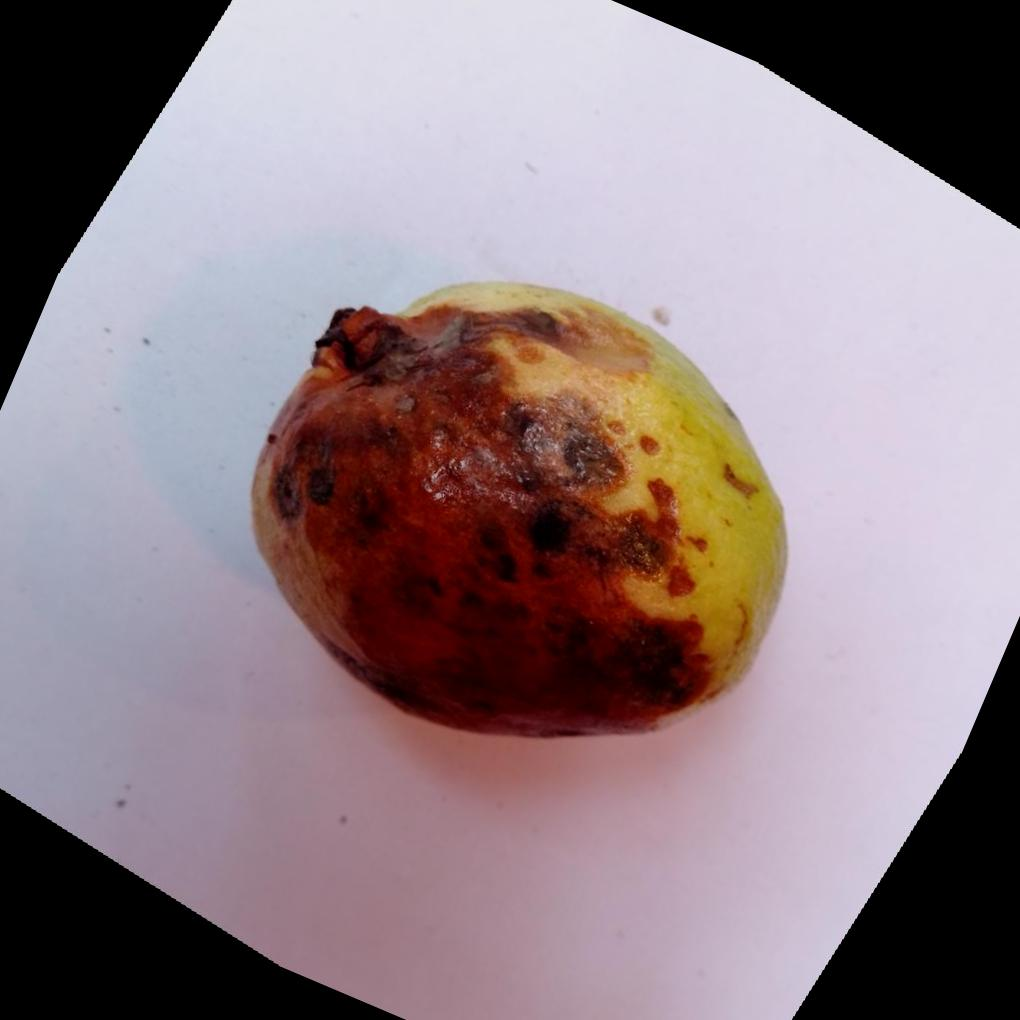FreshOrange: (249, 275, 790, 736)
